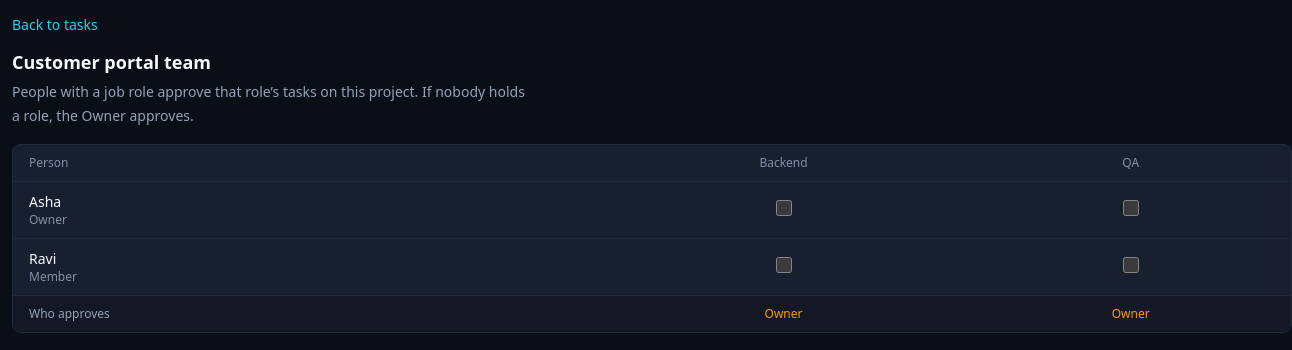
Test: ProjectTeamPage › assigns and removes a job role
Click the checkbox named "Backend for Ravi": coordinates (784, 264) [776,256,792,272]
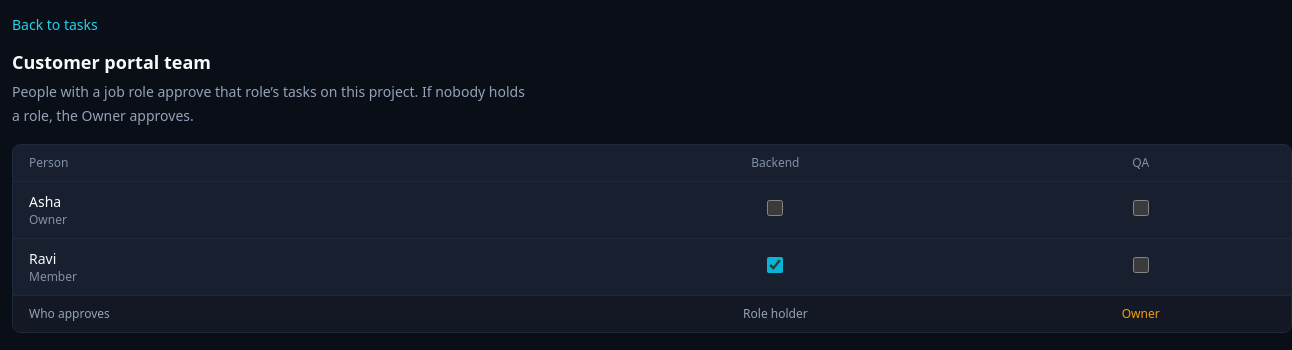
Result: the checkbox named "Backend for Ravi" is checked
Click the checkbox named "Backend for Ravi": coordinates (775, 264) [767,256,783,272]
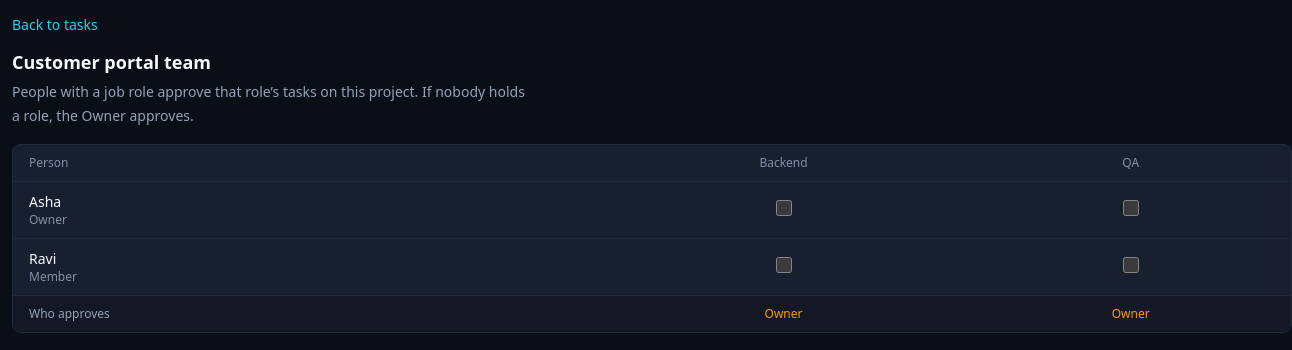
Result: the checkbox named "Backend for Ravi" is not checked at [776,256,792,272]
